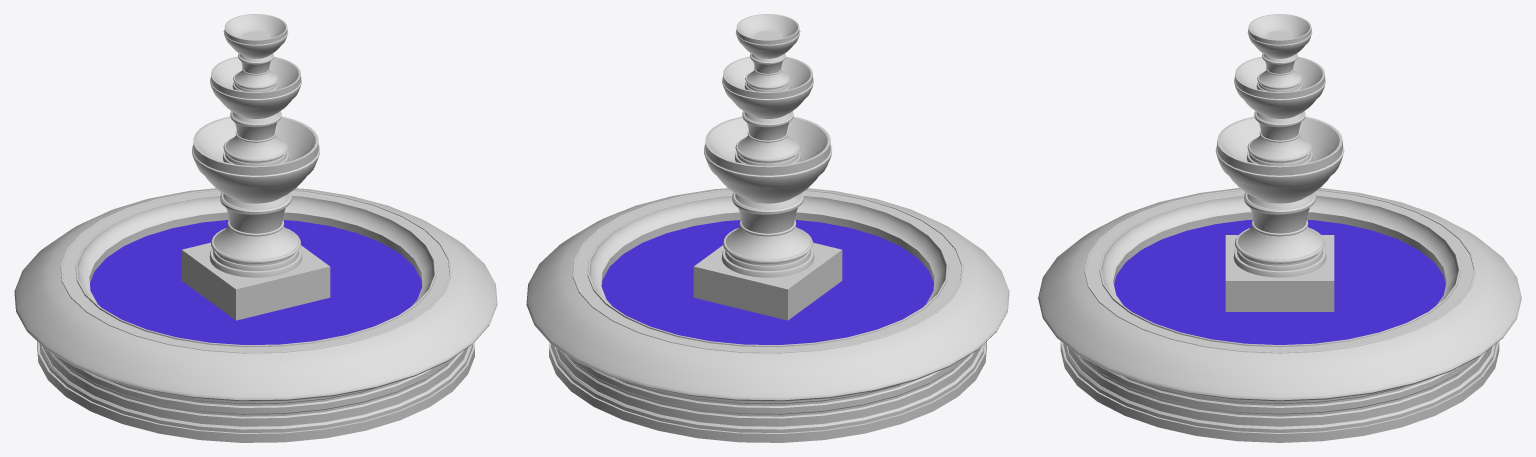
File: Fountain.fbx
The picture shows the model from 3 angles, left to right: view 1: azimuth 30°, elevation 25°; view 2: azimuth 150°, elevation 25°; view 3: azimuth 270°, elevation 25°; orthographic projection.
Visible parts, largest first — view 1: Fountain; view 2: Fountain; view 3: Fountain.
Boxes of the visible parts, bbox=[...] form: Fountain: bbox=[14, 14, 497, 442]; Fountain: bbox=[526, 14, 1009, 442]; Fountain: bbox=[1038, 14, 1521, 442].
Size of the model in its own units: 225 by 166 by 225.
